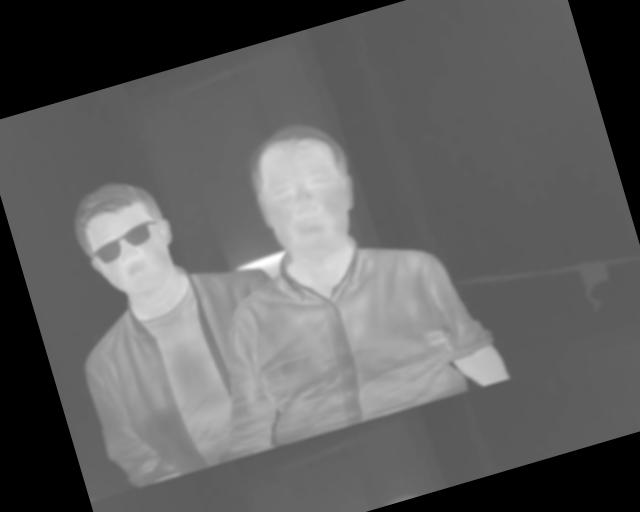face: (236, 110, 374, 273), (64, 168, 187, 308)
